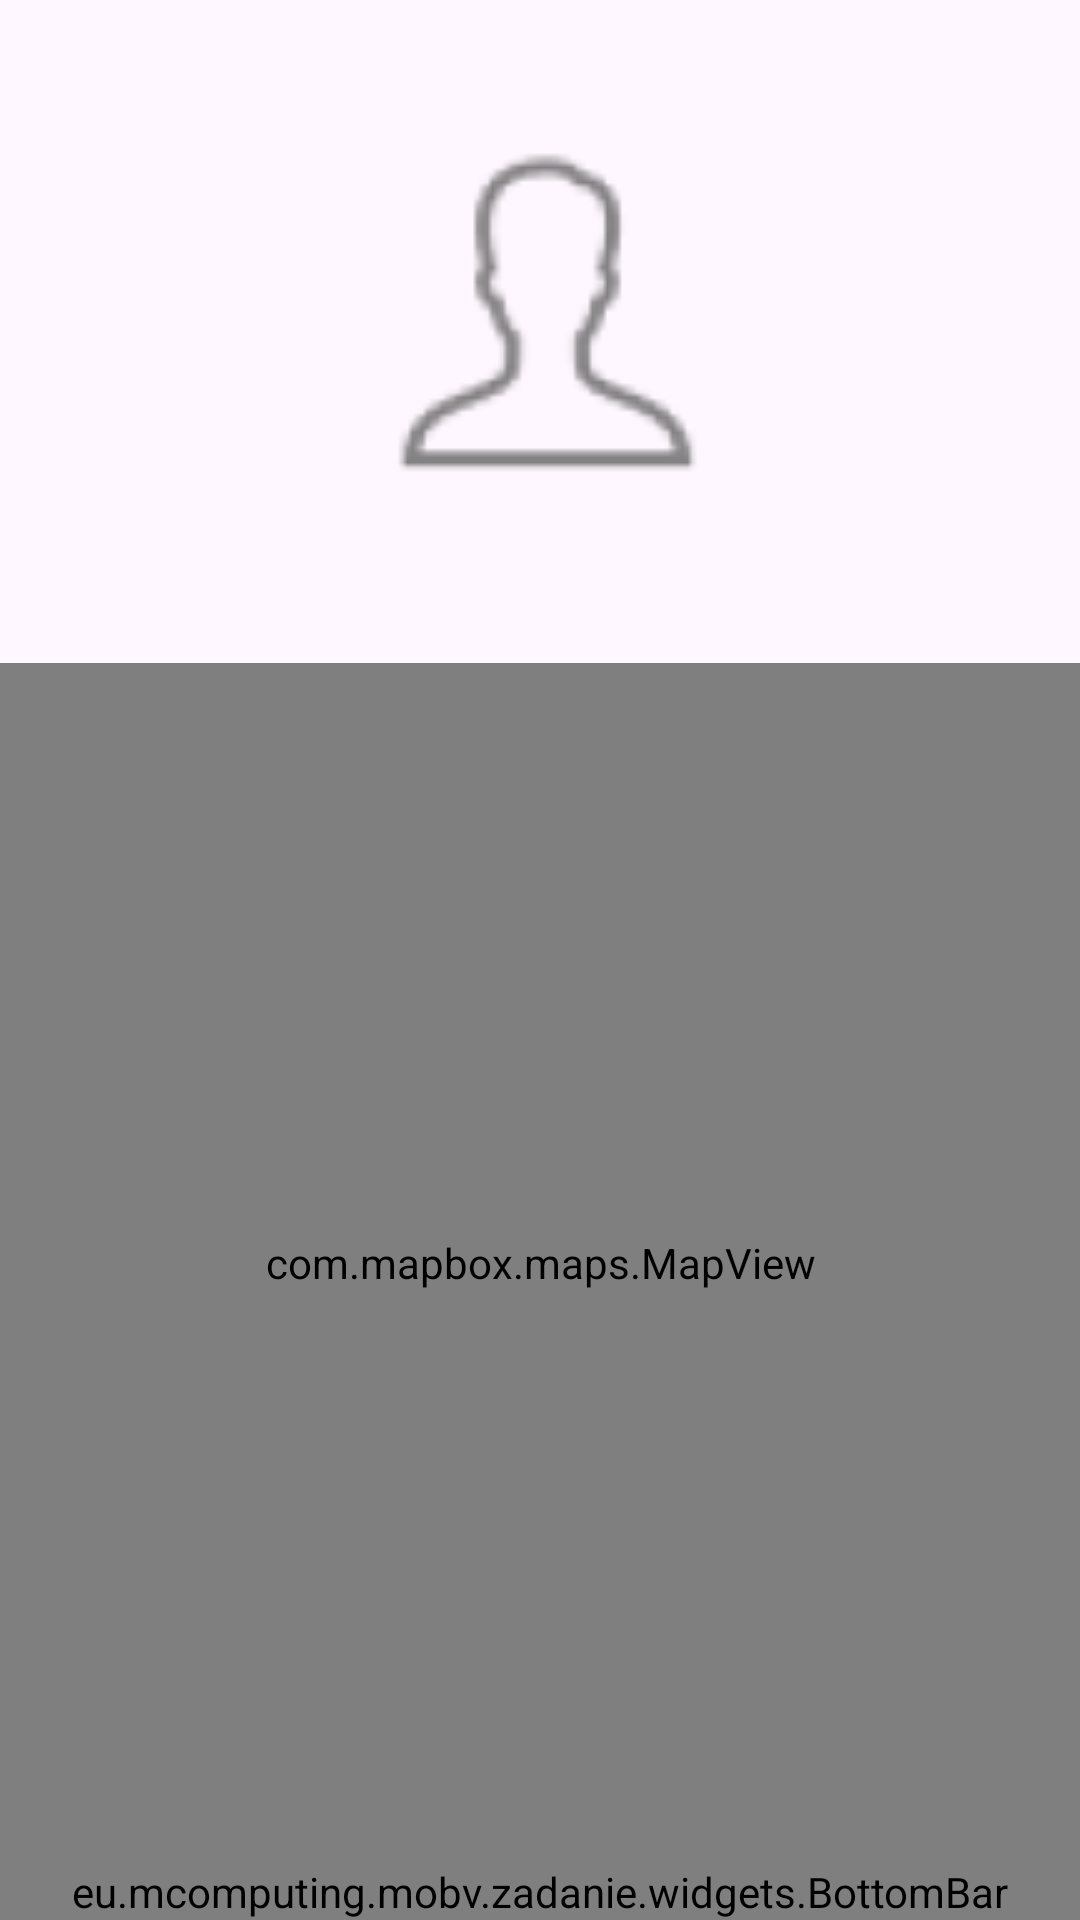

Named icons in this screenshot (1080×1920) and their centers, (x=x, y=y):
profil: (x=547, y=311)
